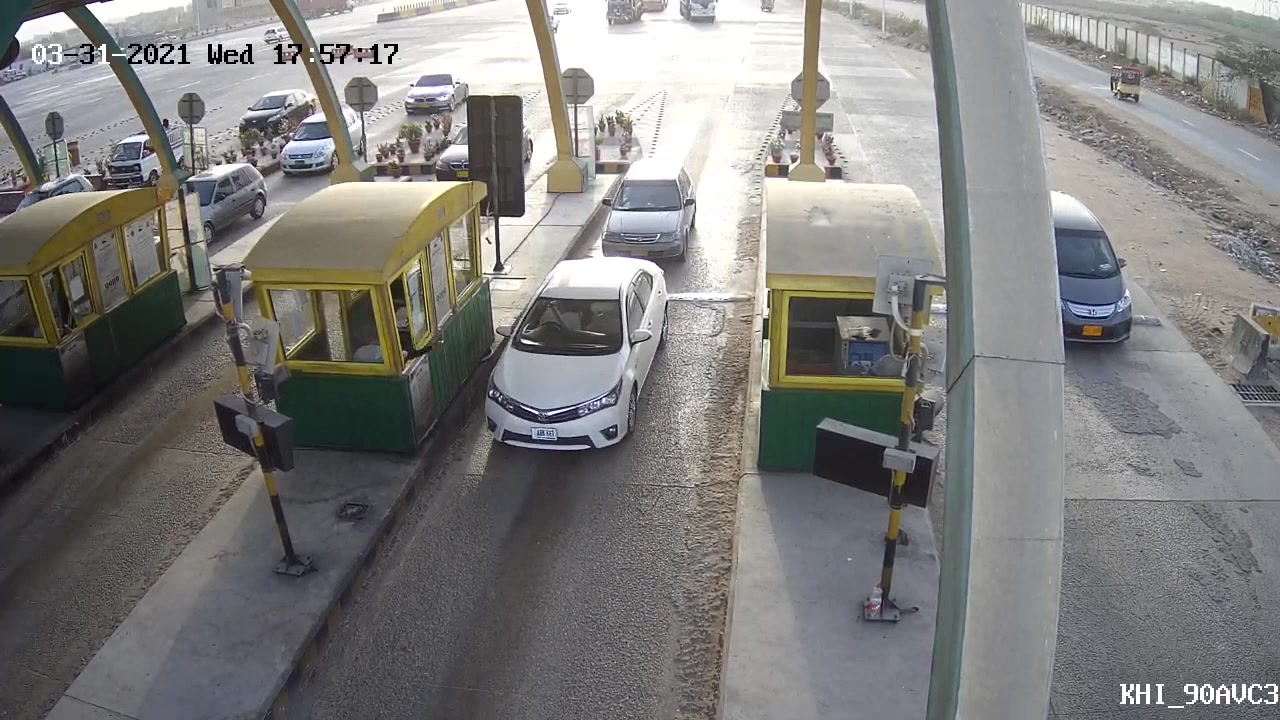F1: (476, 251, 680, 460)
